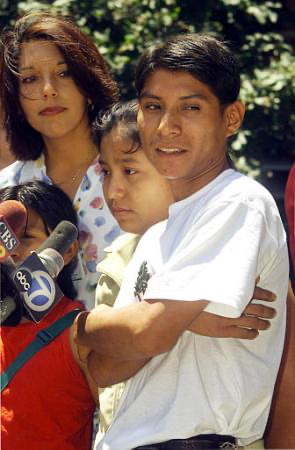Face: (136, 75, 218, 181), (12, 47, 90, 135), (93, 146, 162, 236)
